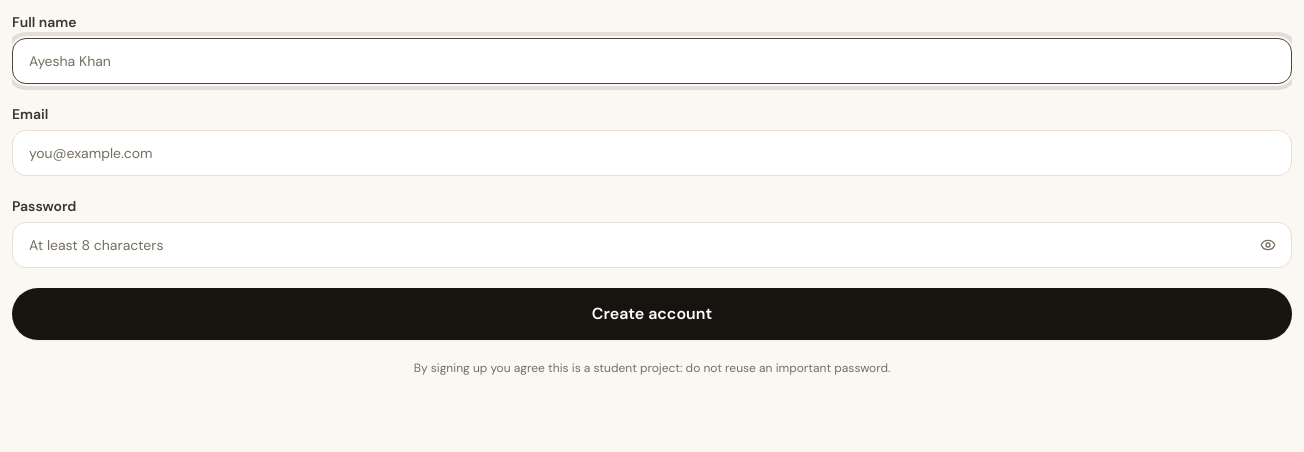
Test: RegisterForm › maps server validation details onto fields
Type "Omar Raza" into the field labelled "Full name".
click(652, 61); type("Omar Raza")  # box x1=12 y1=38 x2=1292 y2=84
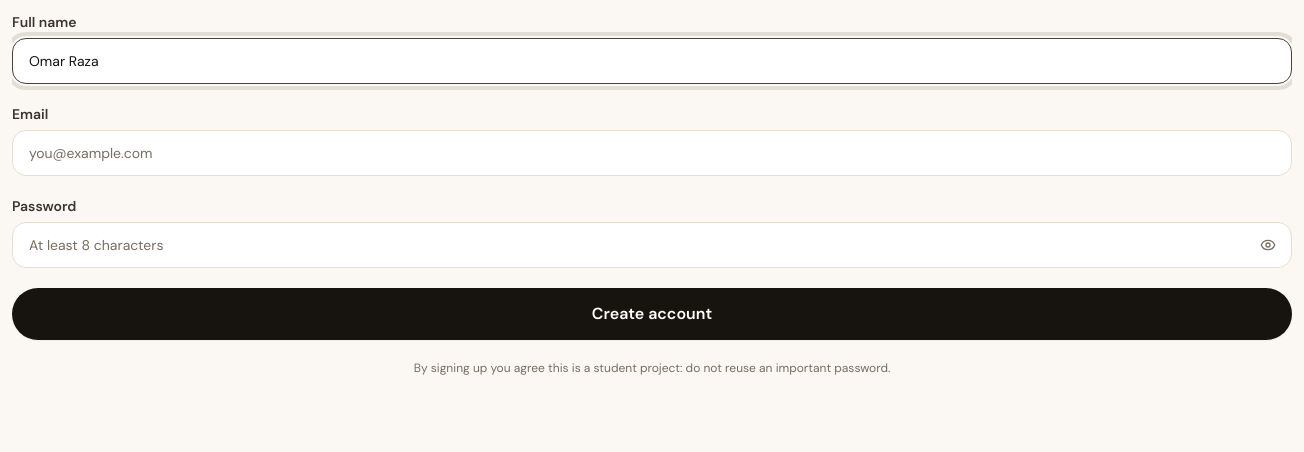
Type "omar@example.com" into the field labelled "Email".
click(652, 153); type("omar@example.com")  # box x1=12 y1=130 x2=1292 y2=176
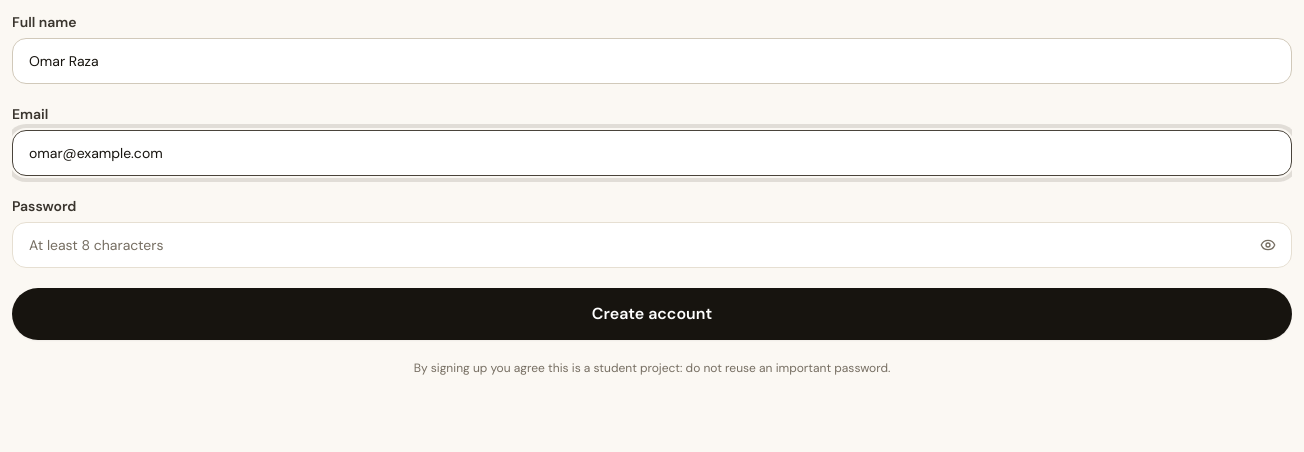
Type "password1" into the password field labelled "Password".
click(652, 245); type("password1")  # box x1=12 y1=222 x2=1292 y2=268
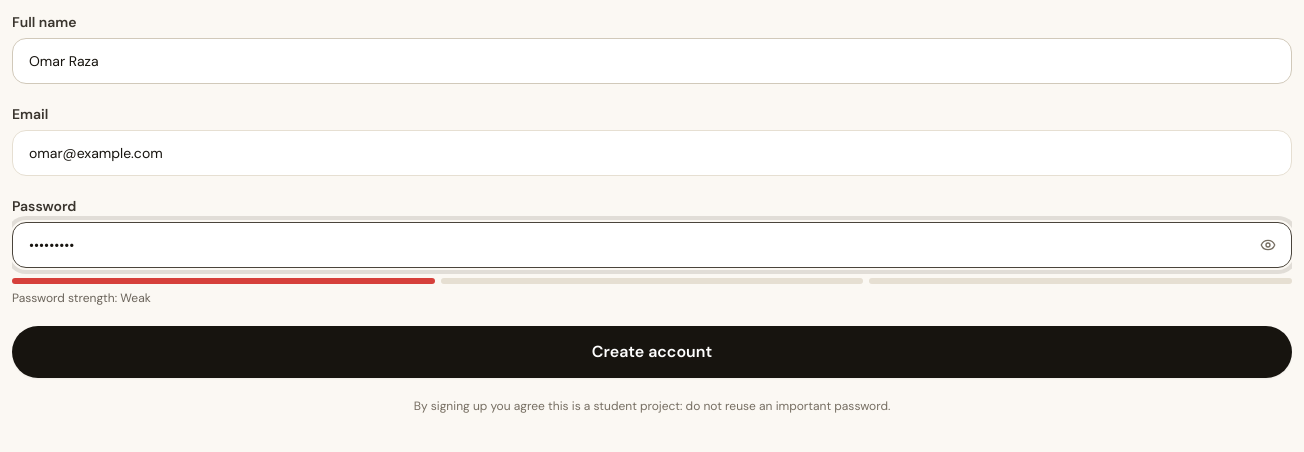
Click the button "Create account".
click(652, 352)  # box x1=12 y1=326 x2=1292 y2=378
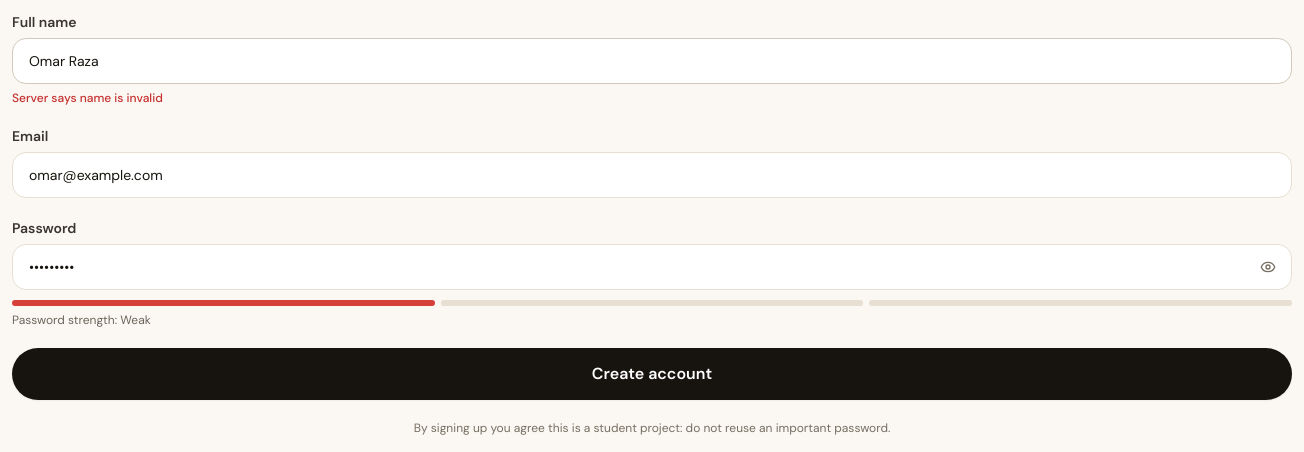
Now the text "Server says name is invalid" is shown, box x1=12 y1=90 x2=163 y2=106
